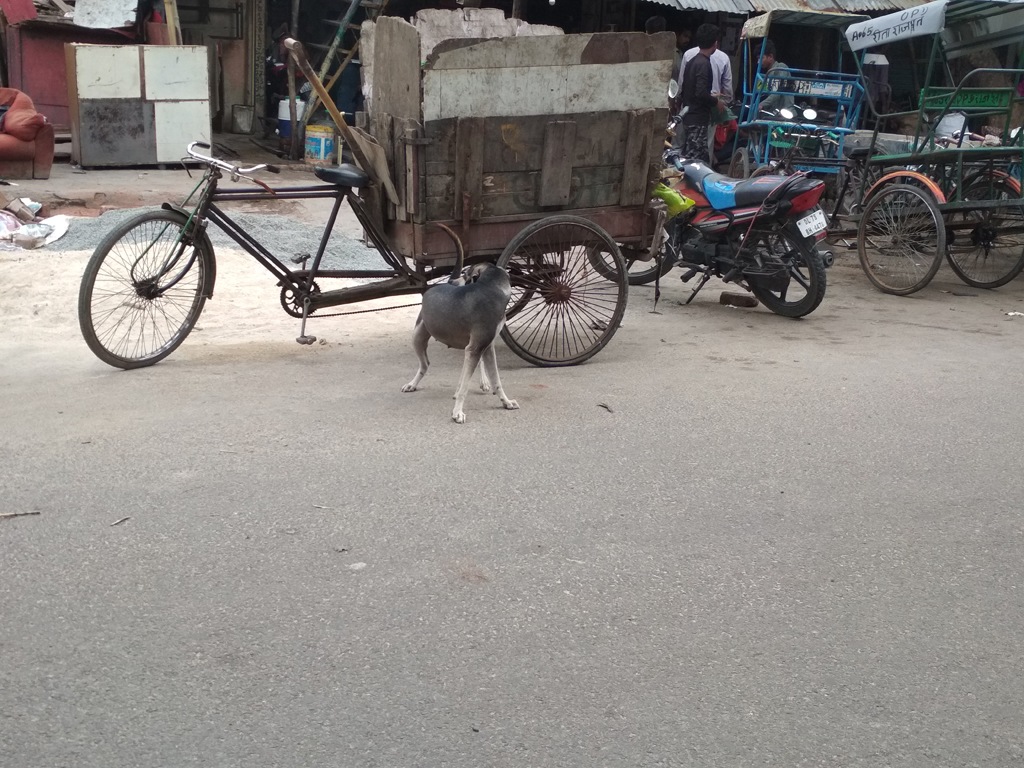dog: (401, 219, 512, 424)
